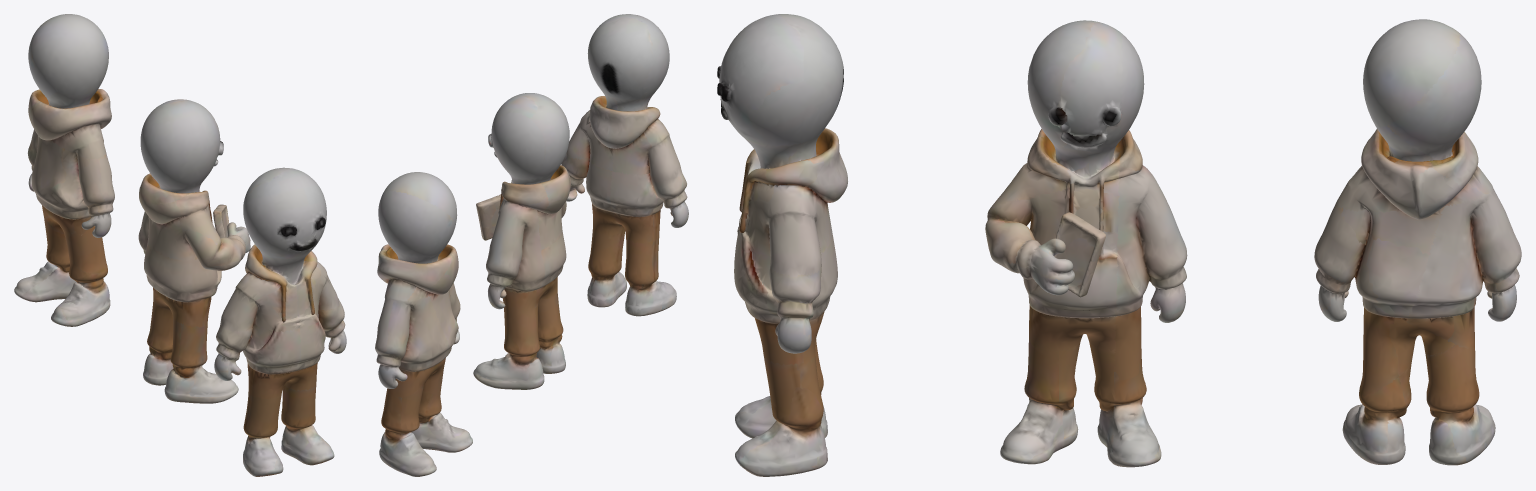
The model's file is witness.glb.
The picture shows the model from 3 angles, left to right: view 1: azimuth 30°, elevation 25°; view 2: azimuth 150°, elevation 25°; view 3: azimuth 270°, elevation 25°; orthographic projection. The views are drawn at different scales.
Parts seen in each view (by area): view 1: tripo_node_41d8d6bf-1e87-4489-bbab-f7445f822597; view 2: tripo_node_41d8d6bf-1e87-4489-bbab-f7445f822597; view 3: tripo_node_41d8d6bf-1e87-4489-bbab-f7445f822597.
Boxes of the visible parts, box(x1,y1,x2,y2) form: tripo_node_41d8d6bf-1e87-4489-bbab-f7445f822597: box(14, 14, 346, 476); tripo_node_41d8d6bf-1e87-4489-bbab-f7445f822597: box(375, 14, 688, 476); tripo_node_41d8d6bf-1e87-4489-bbab-f7445f822597: box(717, 14, 1521, 476).
Bounding box in the file's own units: 0.7832 × 1.7 × 2.87.
Materials: 1 (1 with a texture image).
